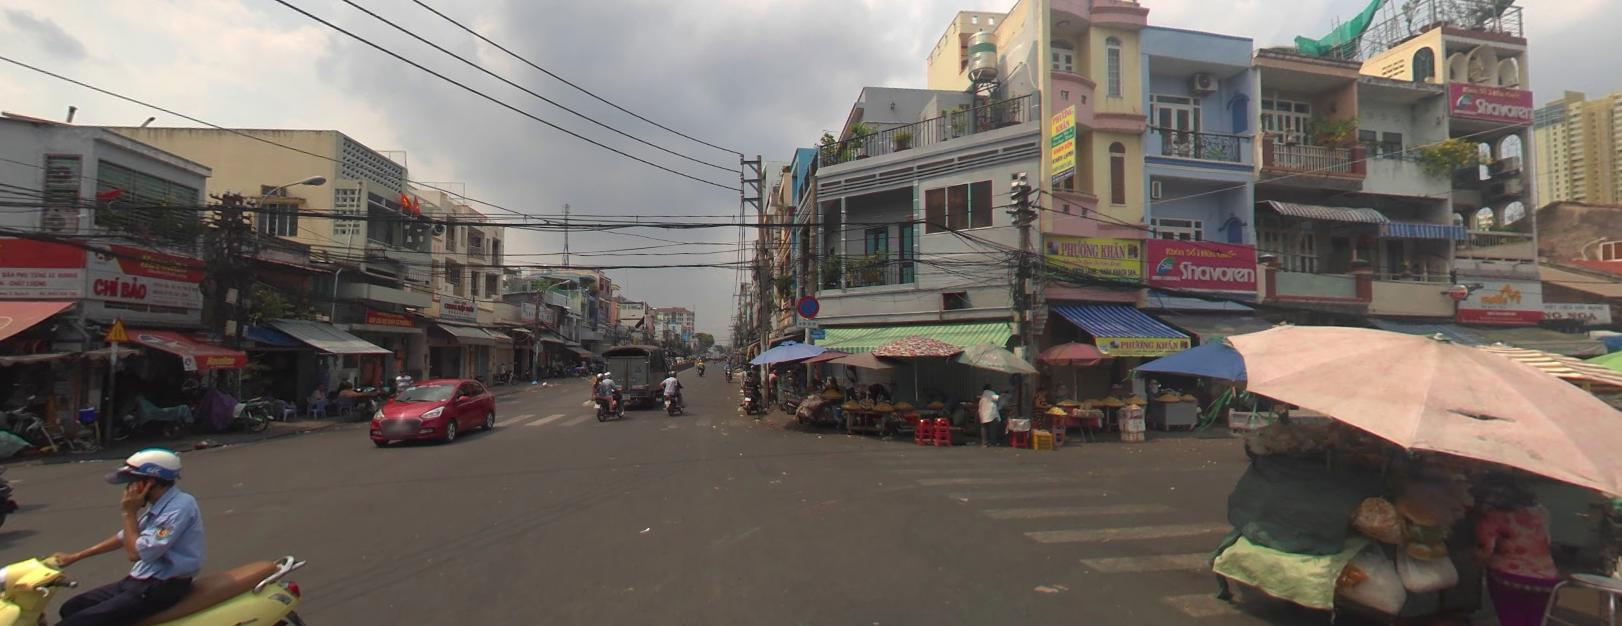Cam dung va do: (795, 293, 819, 316)
Nguy hiem: (103, 316, 133, 341)
